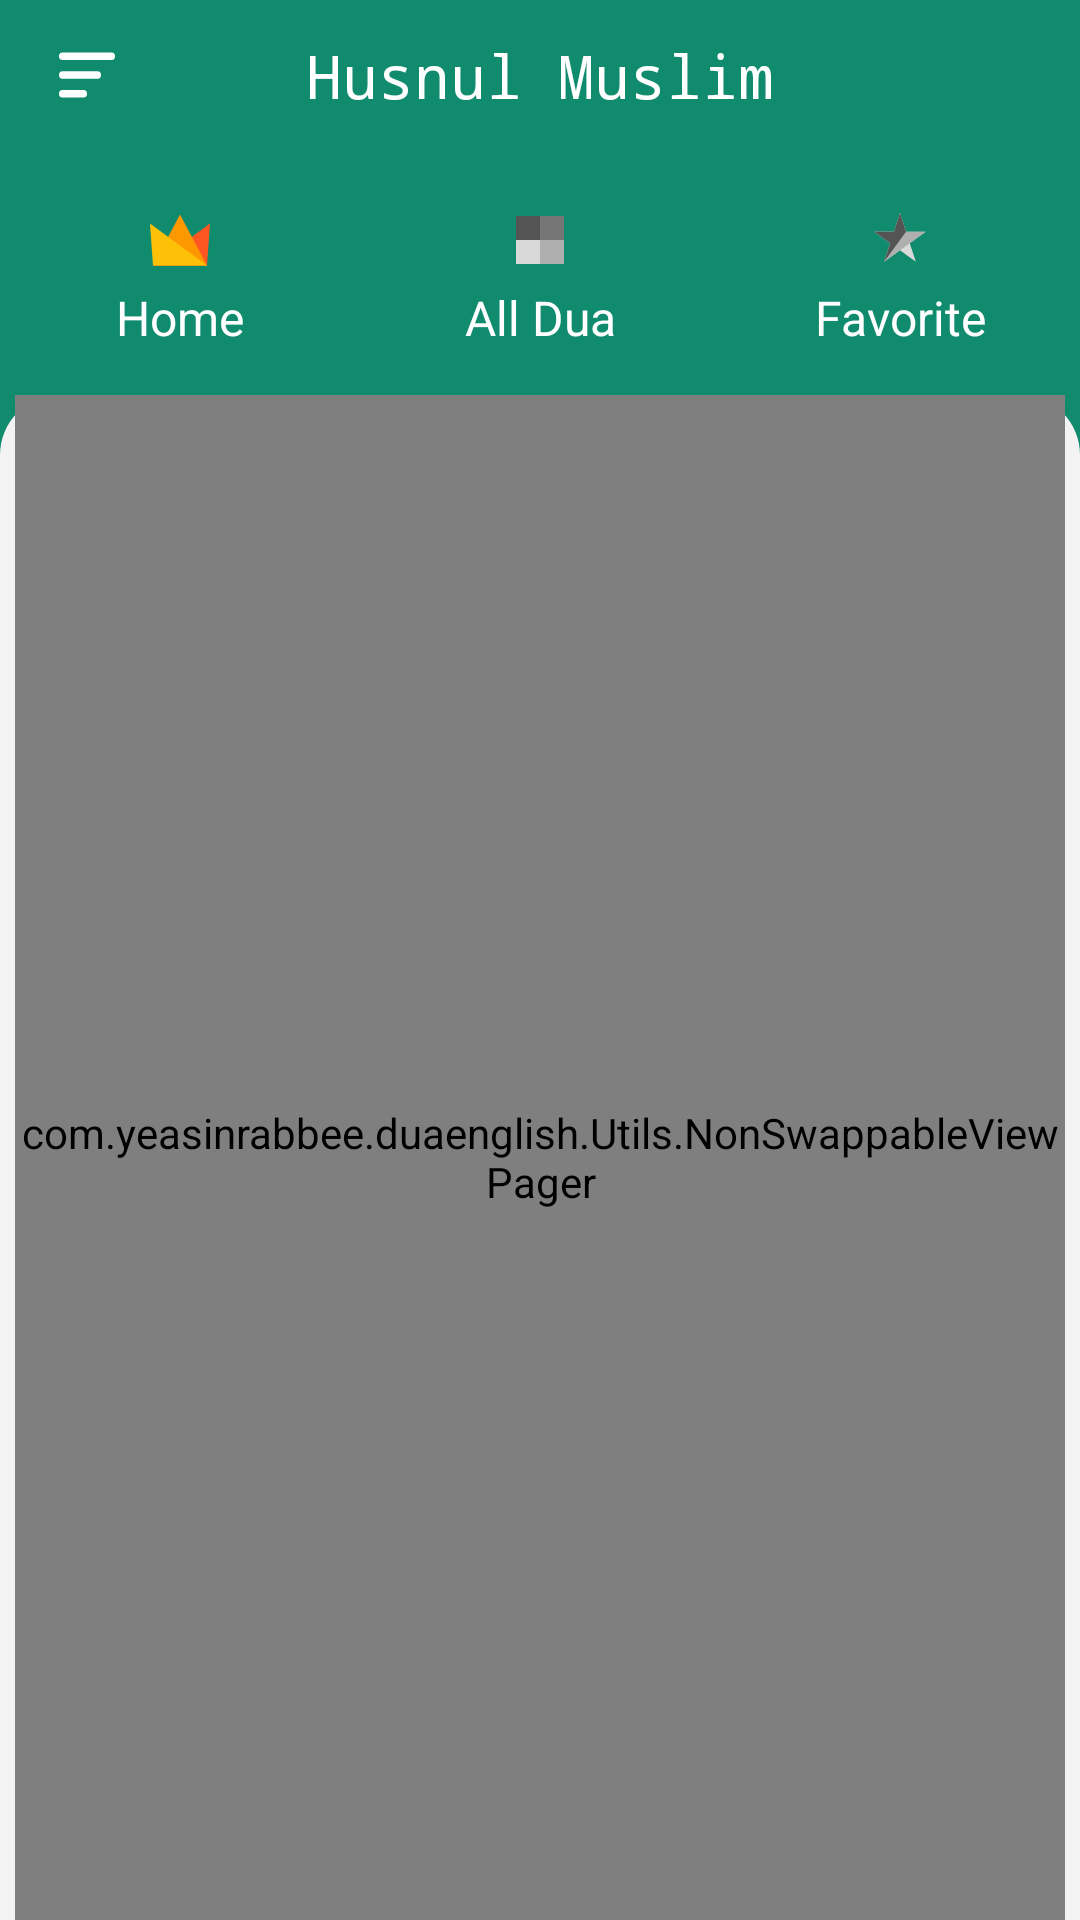

Icon click points for this 1080*1920 phone screenshot, format (x,y):
genre deselected: (540,240)
menu: (87,75)
top deselected: (900,237)
